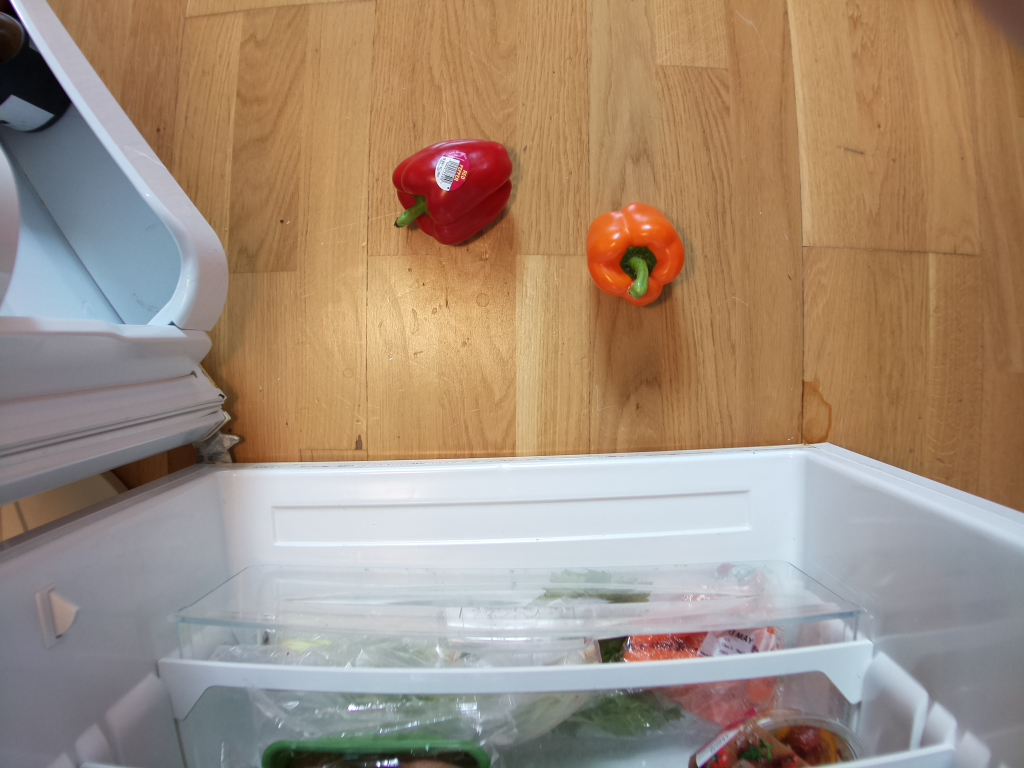pepper: (392, 137, 515, 249), (581, 202, 686, 307)
